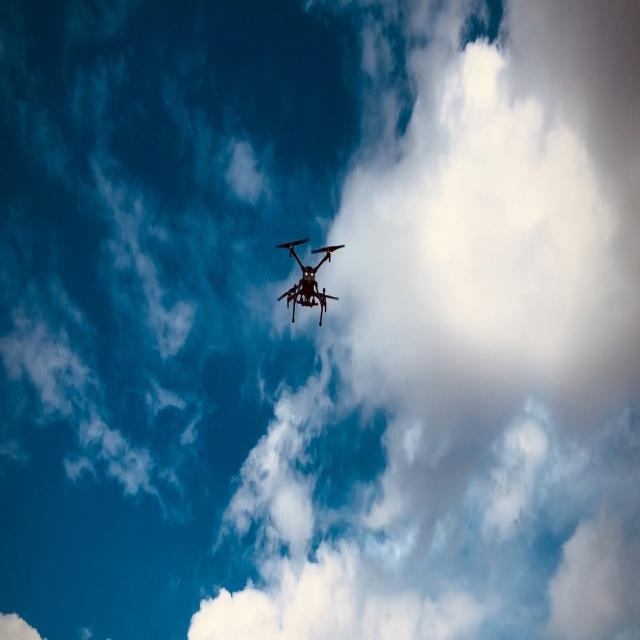drone: (275, 237, 345, 327)
